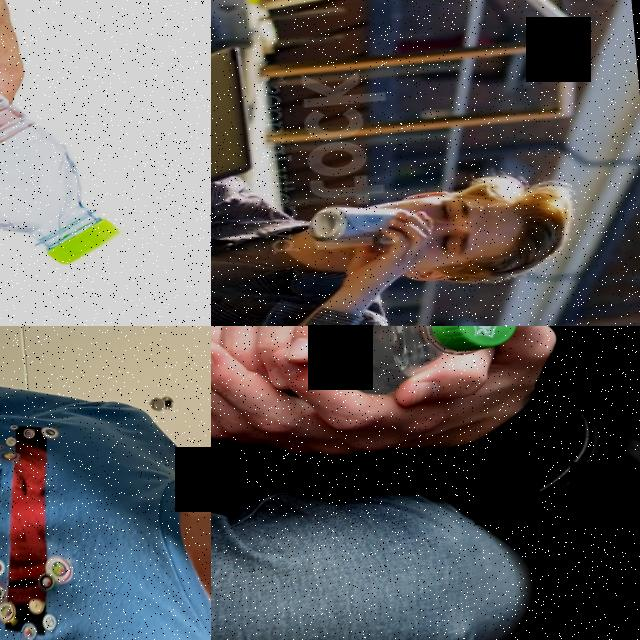bottle: (0, 0, 122, 295), (211, 326, 521, 433)
can: (306, 197, 420, 251)
